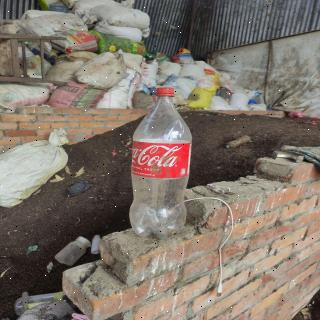Plastic-bottle: (125, 86, 197, 244)
